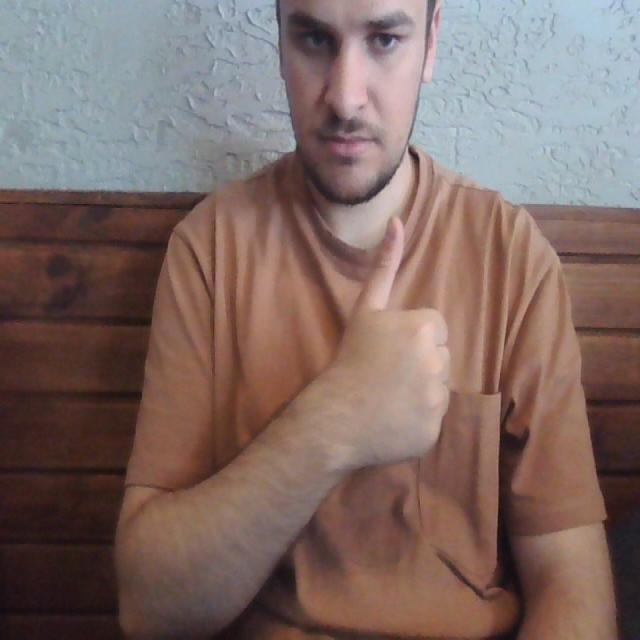Tamam: (320, 212, 454, 482)
